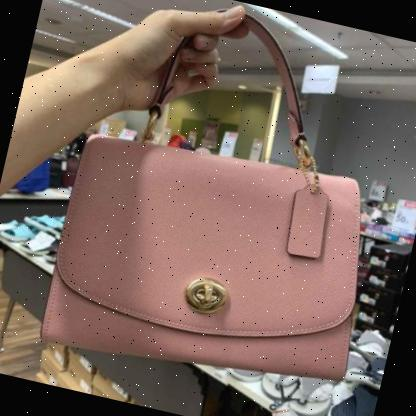bag: (24, 0, 416, 414)
